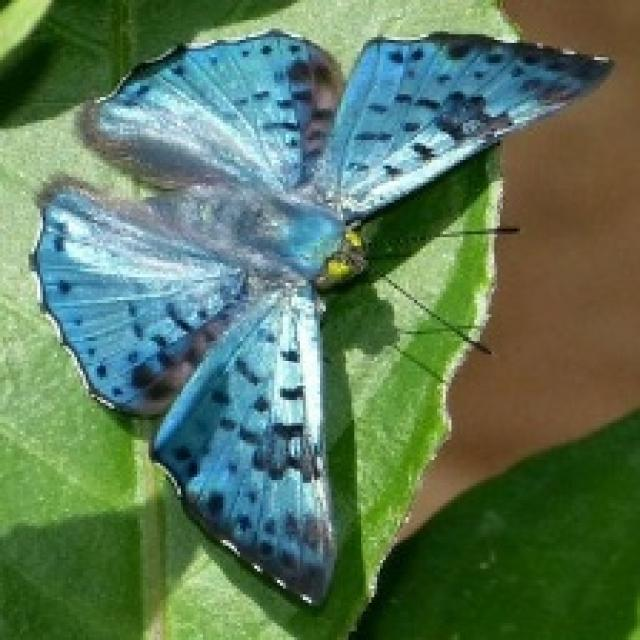butterfly: (26, 26, 614, 611)
